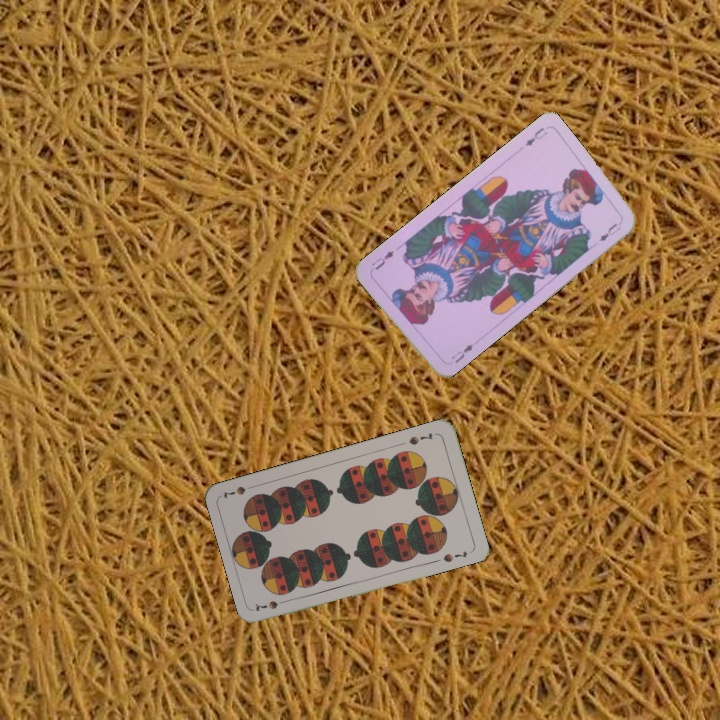EU: (521, 123, 550, 149), (447, 340, 476, 365)
S7: (251, 596, 292, 614), (405, 428, 435, 448)
